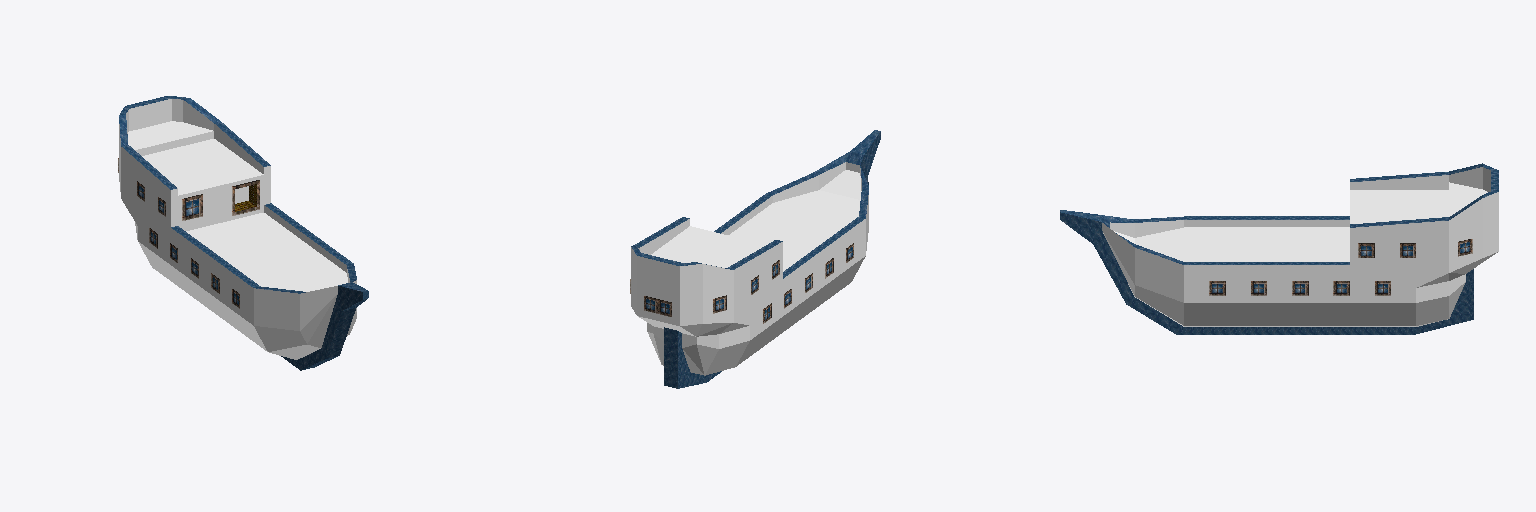
The picture shows the model from 3 angles: view 1: azimuth 30°, elevation 25°; view 2: azimuth 150°, elevation 25°; view 3: azimuth 270°, elevation 25°; orthographic projection.
Parts seen in each view (by area): view 1: world_root; view 2: world_root; view 3: world_root.
Part boxes in pixels (left/top/right/bottom): world_root: left=118, top=96, right=368, bottom=370; world_root: left=630, top=130, right=880, bottom=388; world_root: left=1060, top=163, right=1498, bottom=334.
Size of the model in its own units: 178 by 250 by 664.
5 materials, 3 textured.